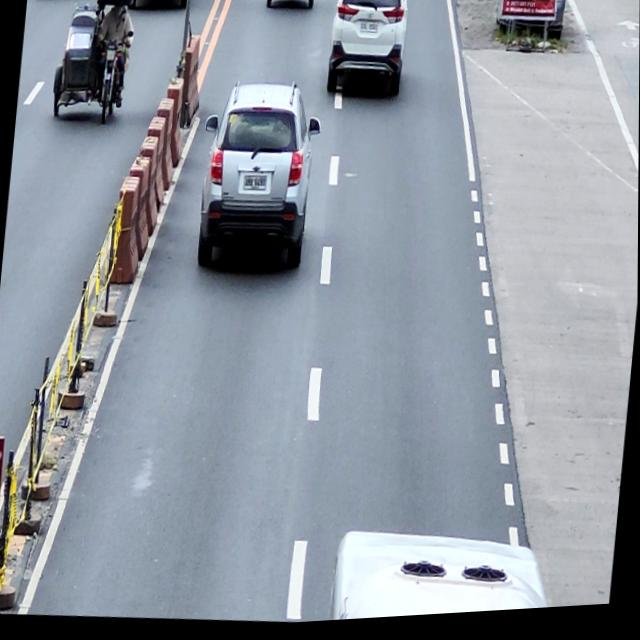Car: (191, 77, 325, 279), (320, 0, 416, 108)
License-Plate: (243, 177, 267, 194), (359, 23, 378, 37)
Tricycle: (50, 0, 142, 125)
